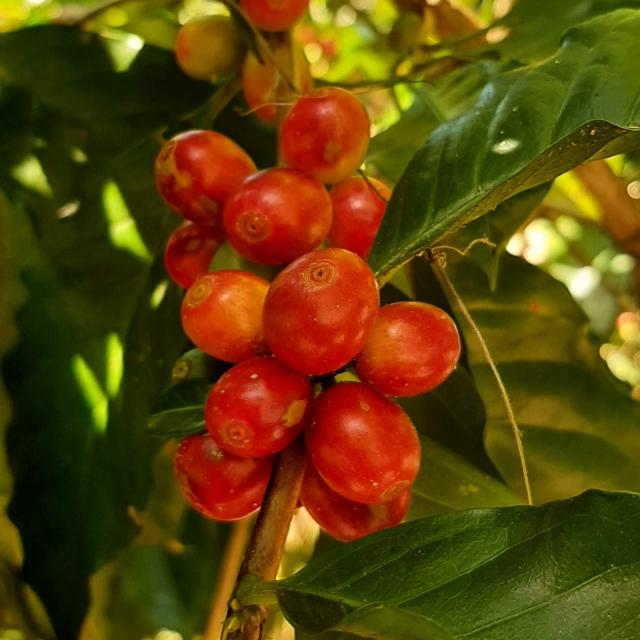red: (262, 248, 380, 376), (306, 382, 421, 506), (204, 357, 312, 458), (222, 168, 333, 265), (355, 302, 461, 397), (300, 461, 411, 543), (174, 433, 274, 522), (328, 176, 391, 259)
yellow: (154, 129, 257, 226), (280, 87, 370, 183), (181, 270, 270, 363), (174, 14, 245, 81), (164, 220, 225, 289), (239, 0, 309, 31)
